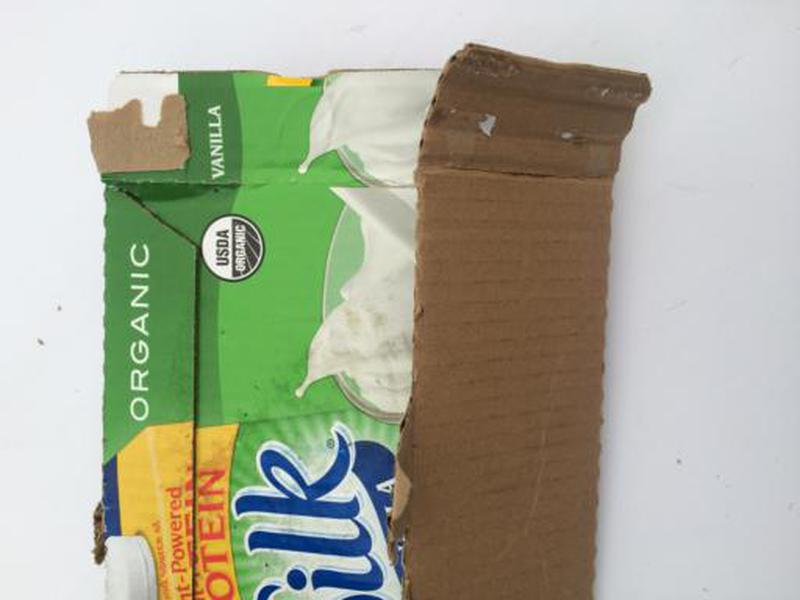cardboard: (85, 42, 655, 600)
